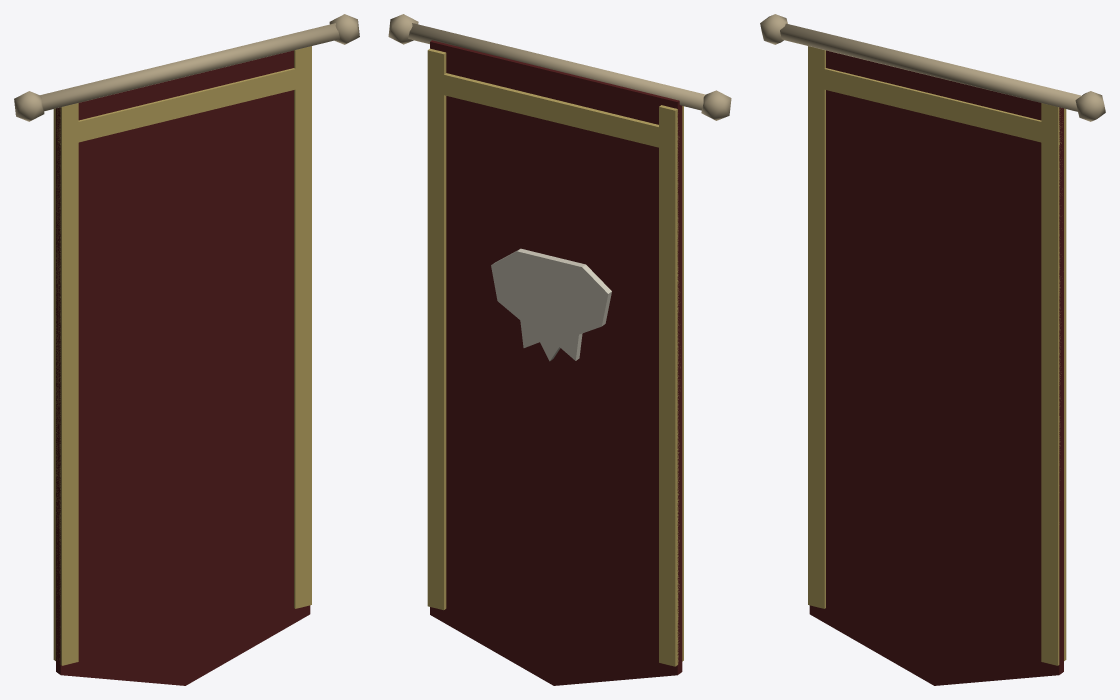
The model's file is paladin_banner_v0.glb.
3 renders of one model, left to right at view 1: azimuth 30°, elevation 25°; view 2: azimuth 150°, elevation 25°; view 3: azimuth 330°, elevation 25°, orthographic.
Parts seen in each view (by area): view 1: paladin_banner_v0; view 2: paladin_banner_v0; view 3: paladin_banner_v0.
Boxes of the visible parts, bbox=[...] form: paladin_banner_v0: bbox=[14, 14, 359, 685]; paladin_banner_v0: bbox=[388, 14, 731, 685]; paladin_banner_v0: bbox=[760, 14, 1105, 685].
Size of the model in its own units: 1.04 by 1.84 by 0.0933.
